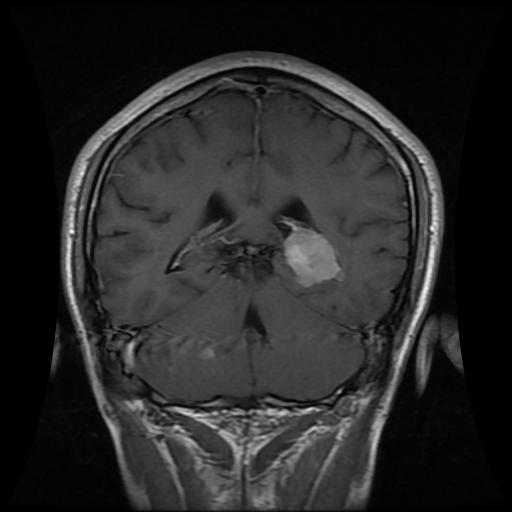Menigiomia_tumour: (282, 227, 340, 286)
